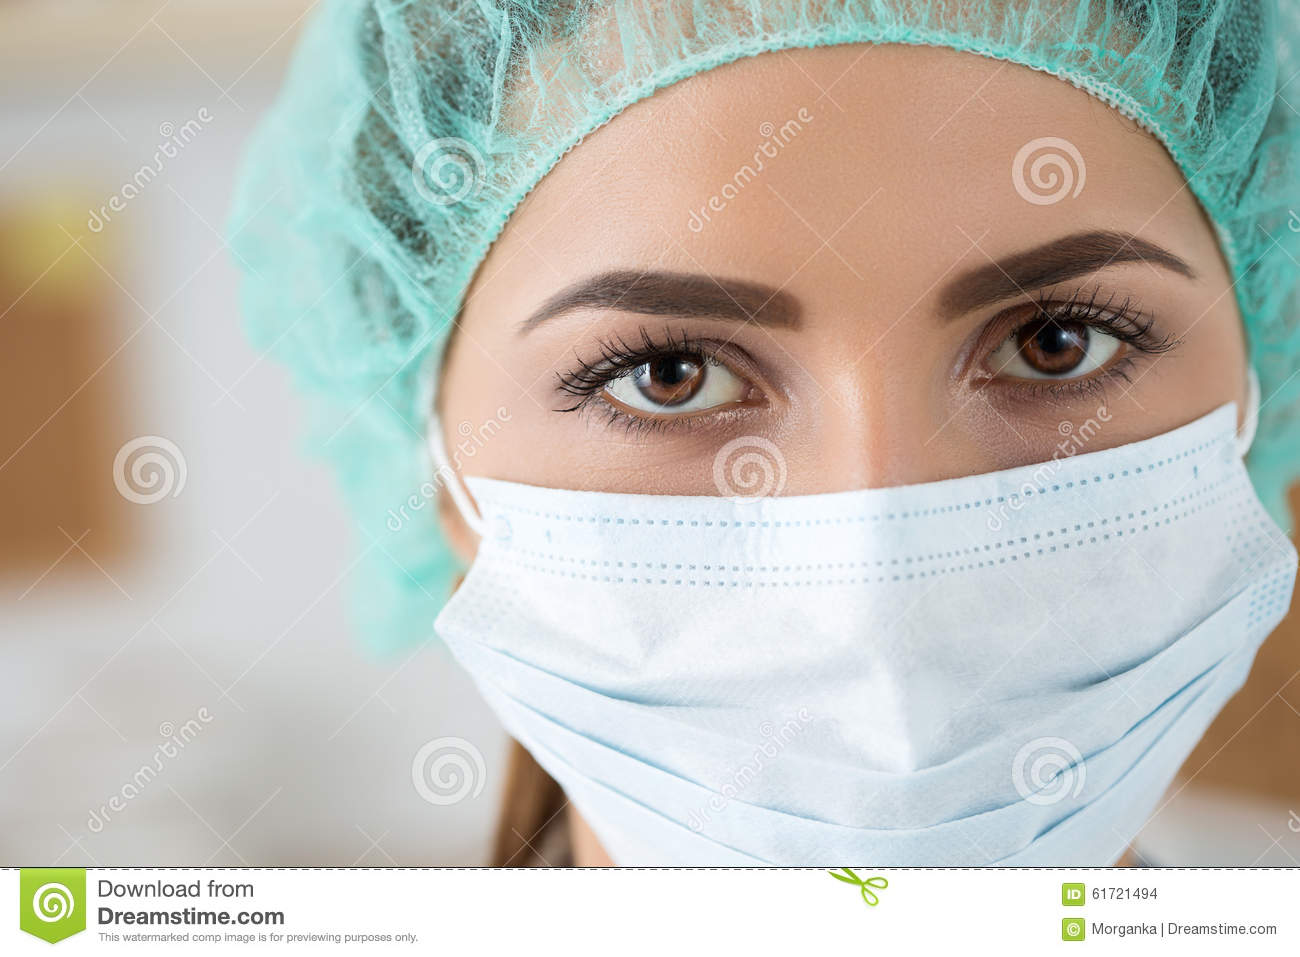mask: (433, 459, 1300, 865)
